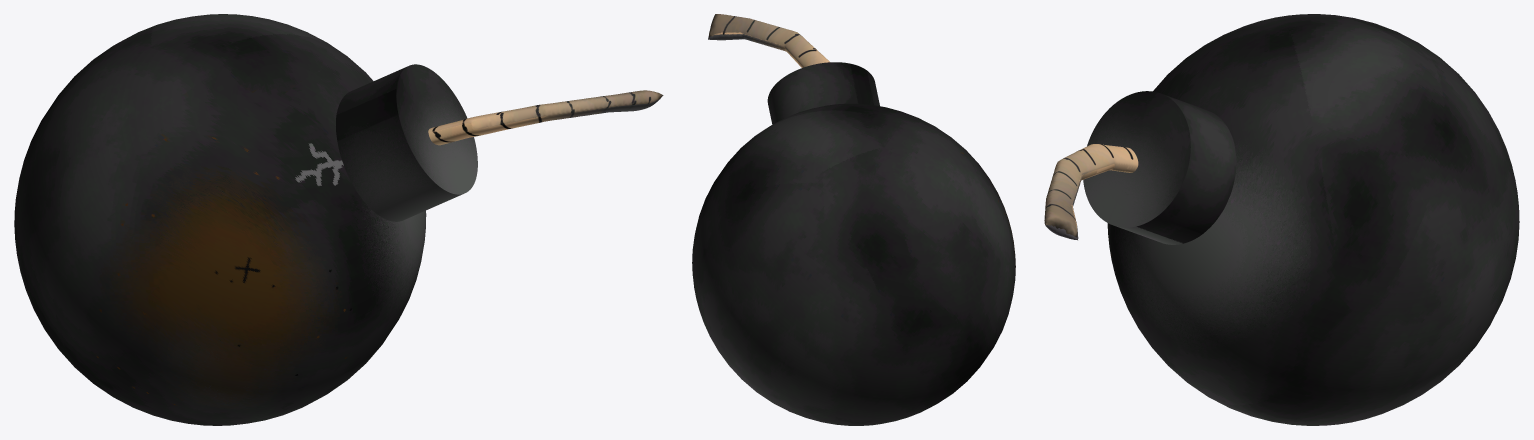
Rendered from Bomb.fbx.
The picture shows the model from 3 angles, left to right: view 1: azimuth 30°, elevation 25°; view 2: azimuth 150°, elevation 25°; view 3: azimuth 270°, elevation 25°; orthographic projection. The views are drawn at different scales.
Parts seen in each view (by area): view 1: node_id34, node_id30, node_id36; view 2: node_id34, node_id30, node_id36; view 3: node_id34, node_id30, node_id36.
Part boxes in pixels (left/top/right/bottom): node_id34: left=14, top=14, right=426, bottom=425; node_id30: left=336, top=64, right=477, bottom=221; node_id36: left=428, top=90, right=663, bottom=145; node_id34: left=692, top=103, right=1015, bottom=425; node_id30: left=767, top=62, right=879, bottom=124; node_id36: left=708, top=14, right=829, bottom=67; node_id34: left=1107, top=14, right=1519, bottom=425; node_id30: left=1083, top=91, right=1236, bottom=244; node_id36: left=1044, top=144, right=1138, bottom=240.
Bounding box in the file's own units: 0.4077 × 0.2965 × 0.3408.
4 materials, 4 textured.
